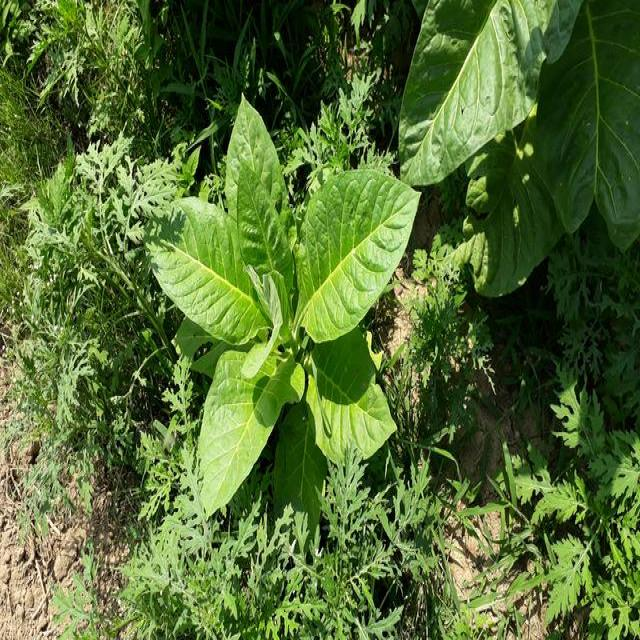crop: (153, 98, 415, 502), (413, 0, 640, 295)
